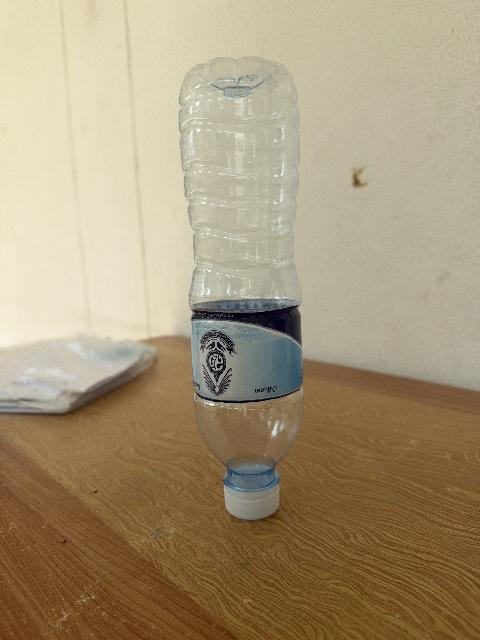bottle: (180, 57, 303, 519)
